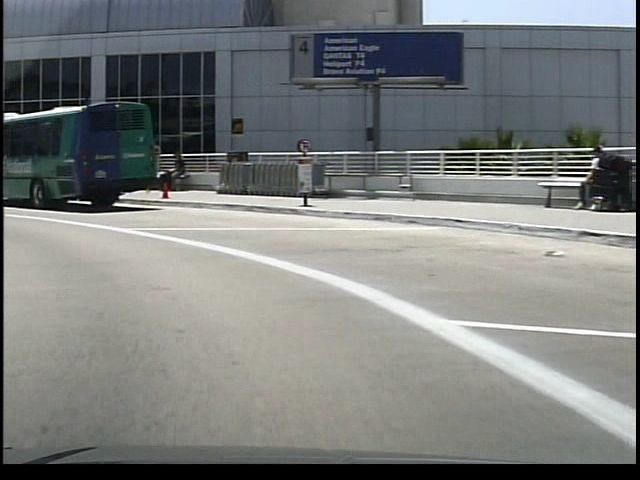person: (157, 147, 186, 195)
